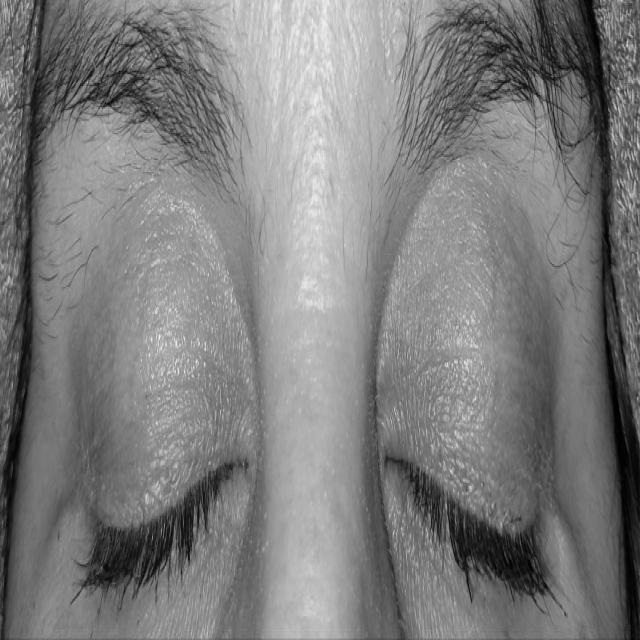real: (47, 89, 602, 619)
